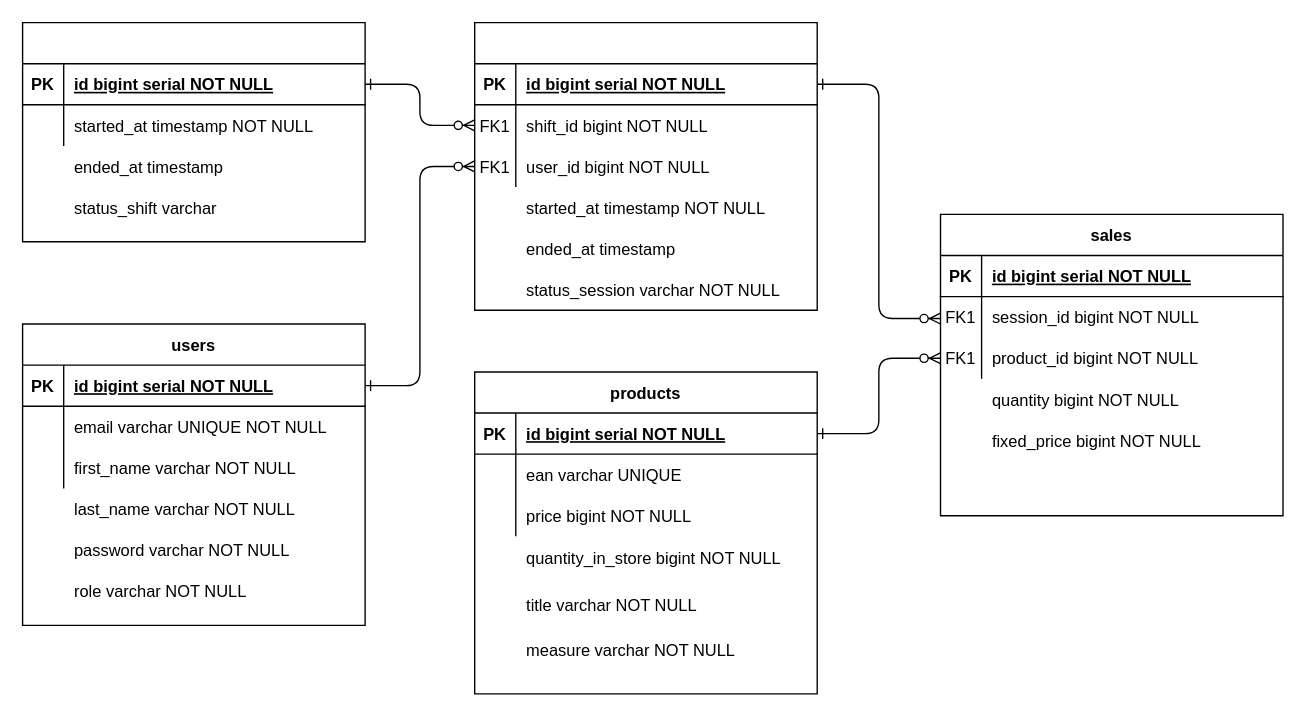
Image size: 1306x717. Some labels were removed from this diagram. The box of each missing label's shape, as (x1, y1, x2, y2) in pixels:
sessions: (473, 21, 817, 310)
shifts: (21, 21, 365, 242)
